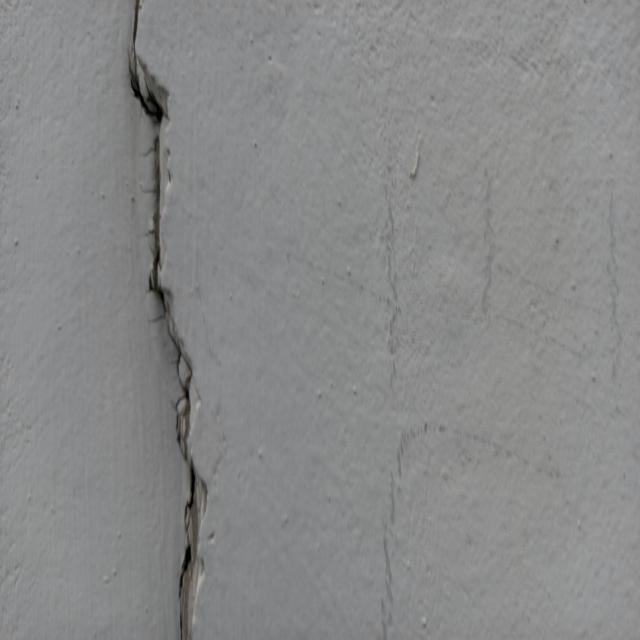SurfaceCrack: (335, 2, 540, 639), (81, 0, 258, 640)
